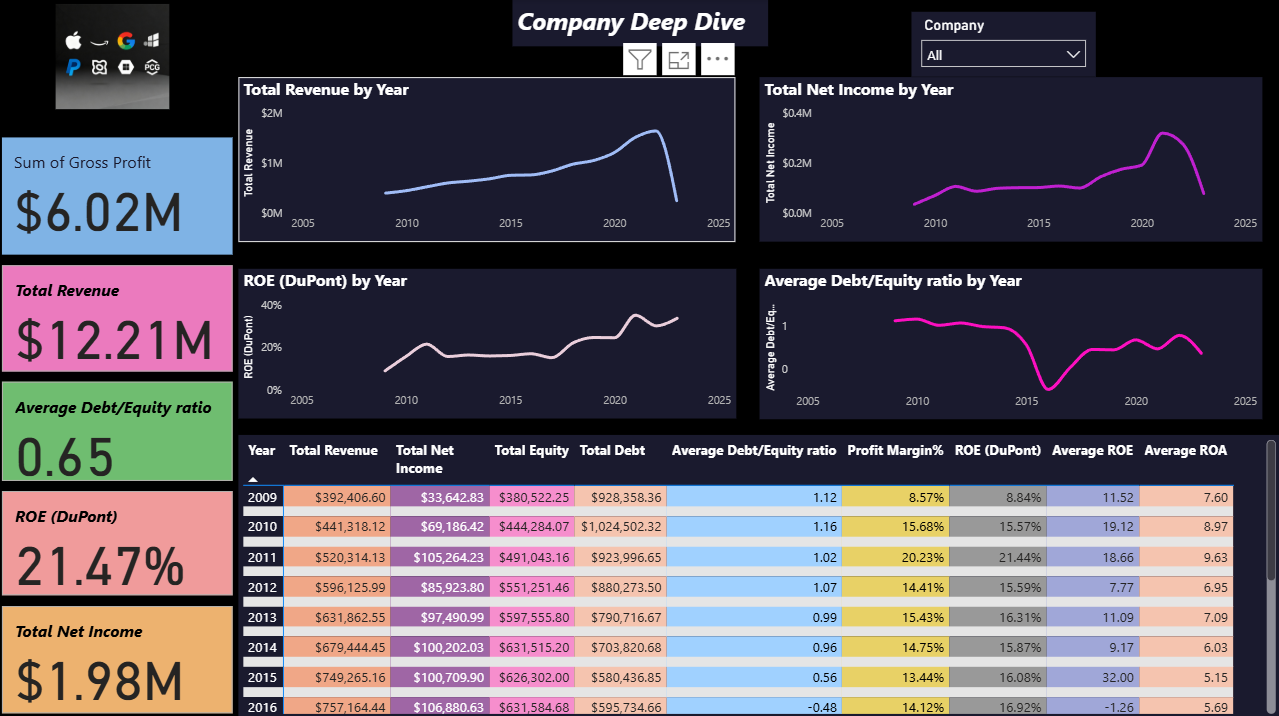

The page's visual inventory and layout, read from the dashboard file:
{"tool":"powerbi","page":{"name":"Company Deep Dive","canvas":[1280,720],"ordinal":5},"visuals":[{"type":"textbox","box":[513.6,0,254.6,47.5],"z":0},{"type":"slicer","fields":{"Values":["Dim_Company.Company "]},"box":[911.9,12.7,184.1,65.1],"z":1000},{"type":"cardVisual","fields":{"Data":["Key_Measure.Total Revenue"]},"box":[0,260.5,240.7,116.1],"z":2000},{"type":"cardVisual","fields":{"Data":["Key_Measure.Total Net Income"]},"box":[0,600.4,240.7,117.5],"z":3000},{"type":"cardVisual","fields":{"Data":["Key_Measure.ROE (DuPont)"]},"box":[0,485.7,240.7,114.7],"z":4000},{"type":"cardVisual","fields":{"Data":["Key_Measure.Average Debt/Equity ratio"]},"box":[0,376.6,240.7,109],"z":5000},{"type":"lineChart","fields":{"Category":["Dim_Date.Year"],"Y":["Key_Measure.Total Revenue"]},"box":[240.7,77.9,495.6,164.2],"z":6000},{"type":"lineChart","fields":{"Category":["Dim_Date.Year"],"Y":["Key_Measure.Total Net Income"]},"box":[760.4,77.9,501.2,164.2],"z":7000},{"type":"lineChart","fields":{"Category":["Dim_Date.Year"],"Y":["Key_Measure.ROE (DuPont)"]},"box":[240.2,269,496.3,149.6],"z":8000},{"type":"lineChart","fields":{"Category":["Dim_Date.Year"],"Y":["Key_Measure.Average Debt/Equity ratio"]},"box":[760.4,269,501.2,150.1],"z":9000},{"type":"pivotTable","fields":{"Rows":["Dim_Date.Year"],"Values":["Key_Measure.Total Revenue","Key_Measure.Total Net Income","Key_Measure.Total Equity","Key_Measure.Total Debt","Key_Measure.Average Debt/Equity ratio","Key_Measure.Profit Margin%","Key_Measure.ROE (DuPont)","Key_Measure.Average ROE","Key_Measure.Average ROA"]},"box":[240.7,434.7,1039.3,283.2],"z":10000},{"type":"cardVisual","fields":{"Data":["Sum(Financial Statements.Gross Profit)"]},"box":[0,133.1,240.7,127.4],"z":11000},{"type":"image","box":[0,0,230.8,114.7],"z":12000}]}

Visuals, with their boxes in screenshot pixels (x1, y1, x2, y2), scaled from the page's 1280x720 canvas onto the 1279x716 screenshot:
textbox: [left=513, top=0, right=768, bottom=47]
slicer - Dim_Company.Company : [left=911, top=13, right=1095, bottom=77]
cardVisual - Key_Measure.Total Revenue: [left=0, top=259, right=241, bottom=375]
cardVisual - Key_Measure.Total Net Income: [left=0, top=597, right=241, bottom=714]
cardVisual - Key_Measure.ROE (DuPont): [left=0, top=483, right=241, bottom=597]
cardVisual - Key_Measure.Average Debt/Equity ratio: [left=0, top=375, right=241, bottom=483]
lineChart - Dim_Date.Year x Key_Measure.Total Revenue: [left=241, top=77, right=736, bottom=241]
lineChart - Dim_Date.Year x Key_Measure.Total Net Income: [left=760, top=77, right=1261, bottom=241]
lineChart - Dim_Date.Year x Key_Measure.ROE (DuPont): [left=240, top=268, right=736, bottom=416]
lineChart - Dim_Date.Year x Key_Measure.Average Debt/Equity ratio: [left=760, top=268, right=1261, bottom=417]
pivotTable - Dim_Date.Year x Key_Measure.Total Revenue: [left=241, top=432, right=1278, bottom=714]
cardVisual - Sum(Financial Statements.Gross Profit): [left=0, top=132, right=241, bottom=259]
image: [left=0, top=0, right=231, bottom=114]
